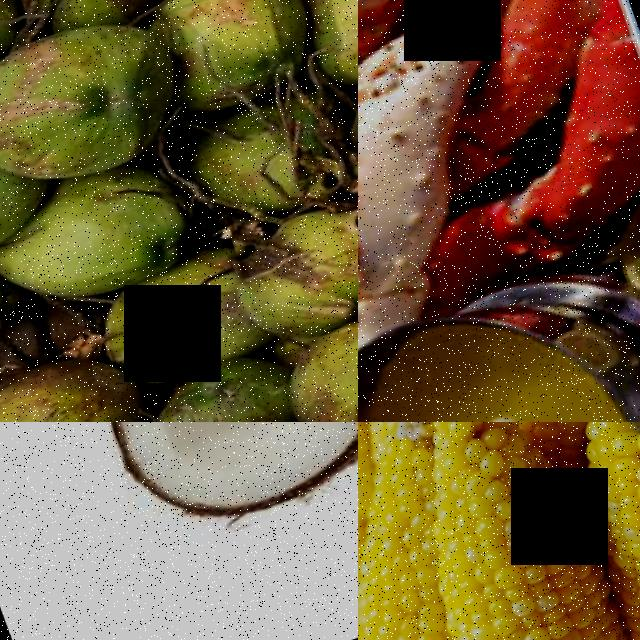coconut: (0, 2, 197, 217), (70, 422, 358, 553), (0, 173, 202, 326), (214, 191, 358, 360), (137, 0, 323, 123), (0, 337, 155, 422), (257, 295, 358, 422)
corn: (365, 422, 640, 640), (537, 422, 640, 640), (358, 545, 510, 640), (358, 422, 424, 596)
crab: (358, 0, 640, 337)
